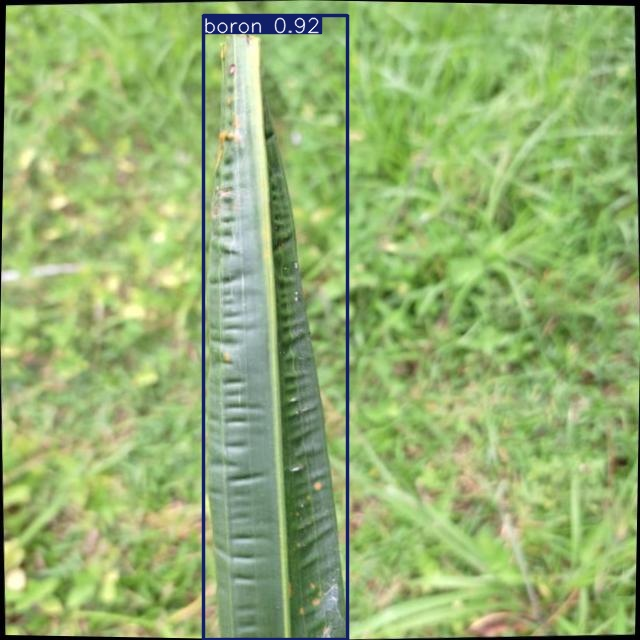nitrogen: (204, 16, 347, 640)
